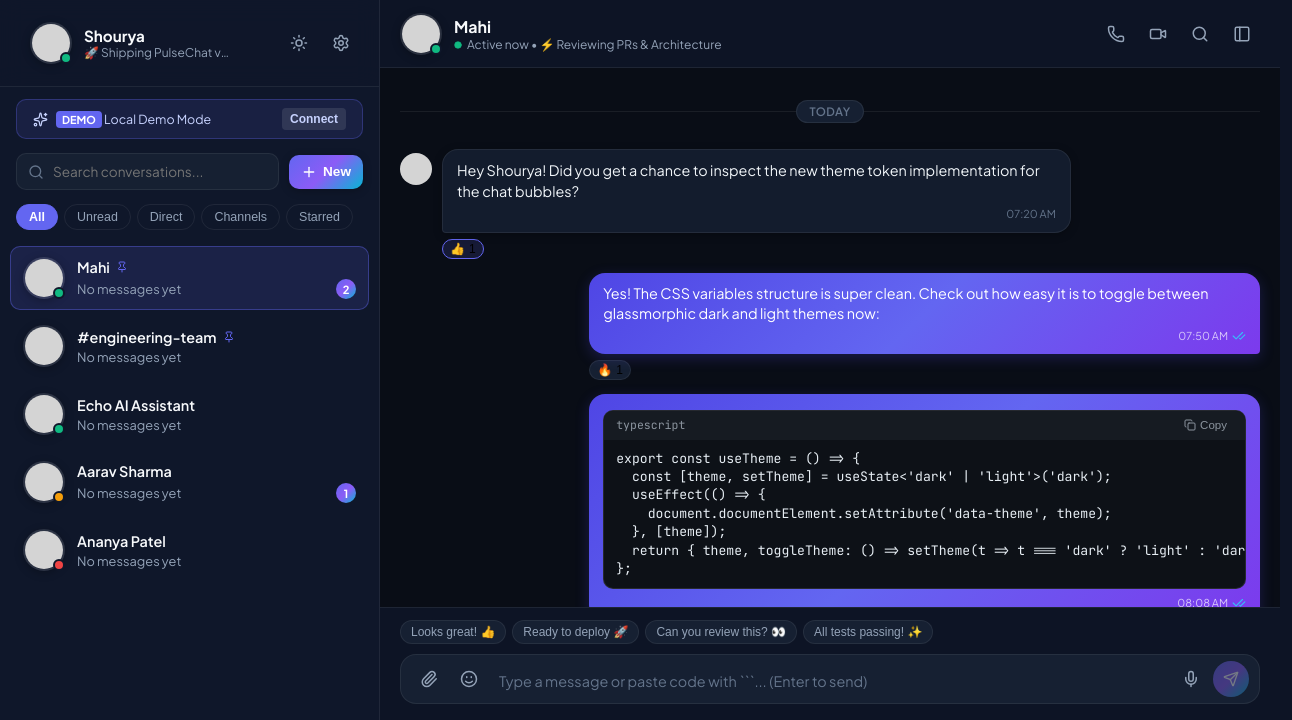
Test: PulseChat App Component Integration › filters conversations by search input
Step 1. Type "Echo" into the field with placeholder "Search conversations..." → (148, 172), box [16,153,279,190]
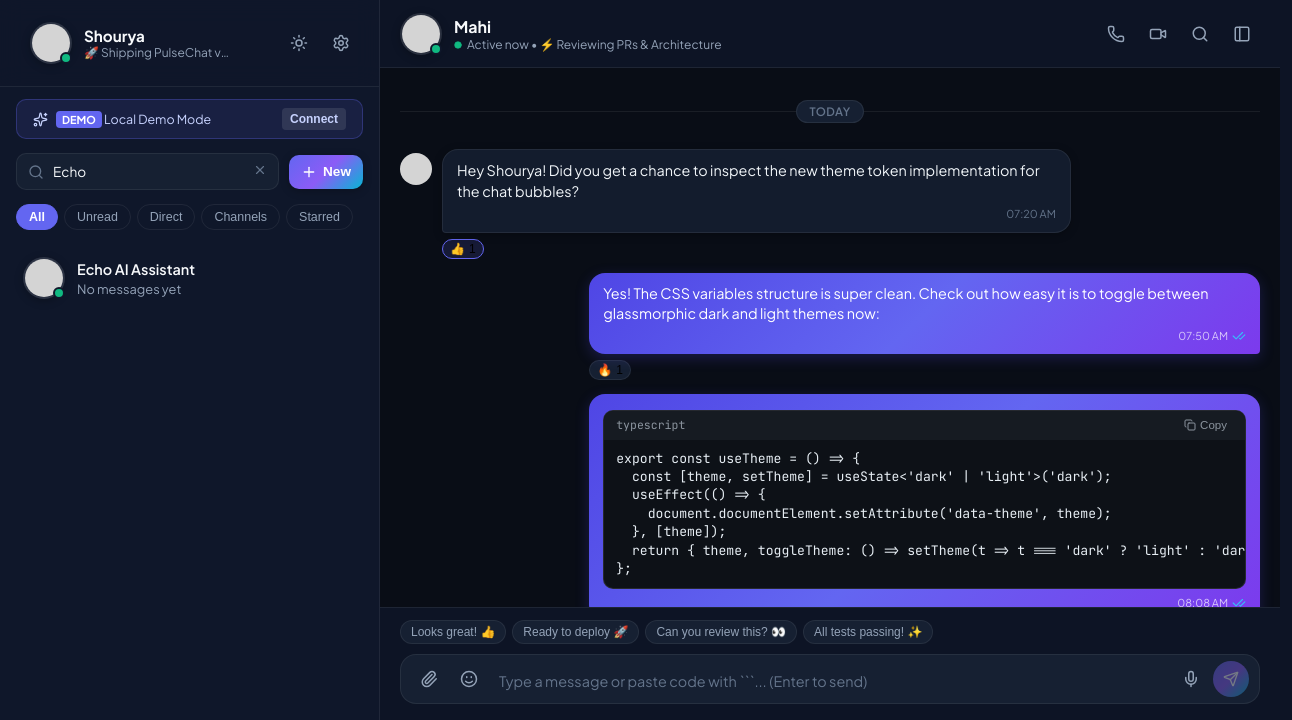
Check: the text "Echo AI Assistant" is shown, box [77,260,195,278]
Check: the text "#engineering-team" is gone
